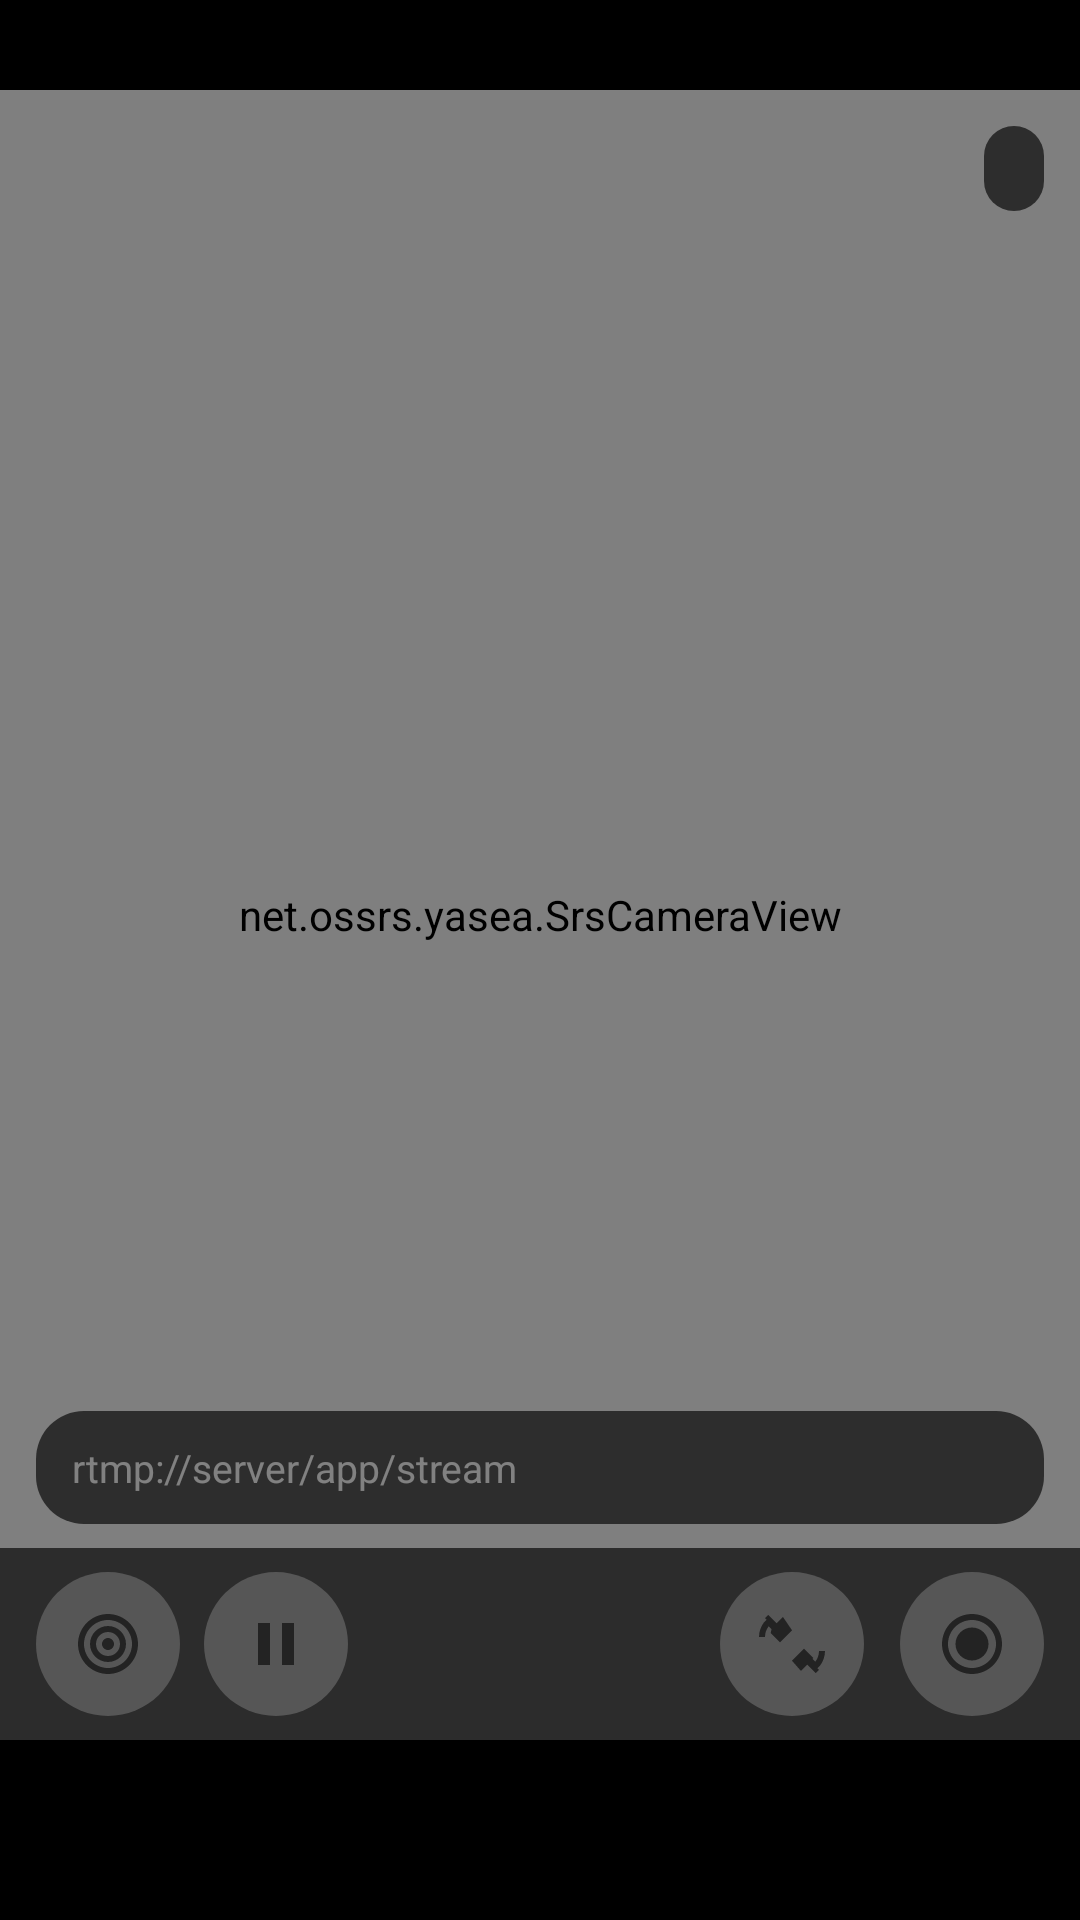

Locate icon controls on the screen. Image size 1080×1920, boxes as (x1, y1, x2, y2).
Pause: (204, 1572, 348, 1716)
Publish to RTMP: (36, 1572, 180, 1716)
Start or stop recording: (900, 1572, 1044, 1716)
Switch camera: (720, 1572, 864, 1716)
